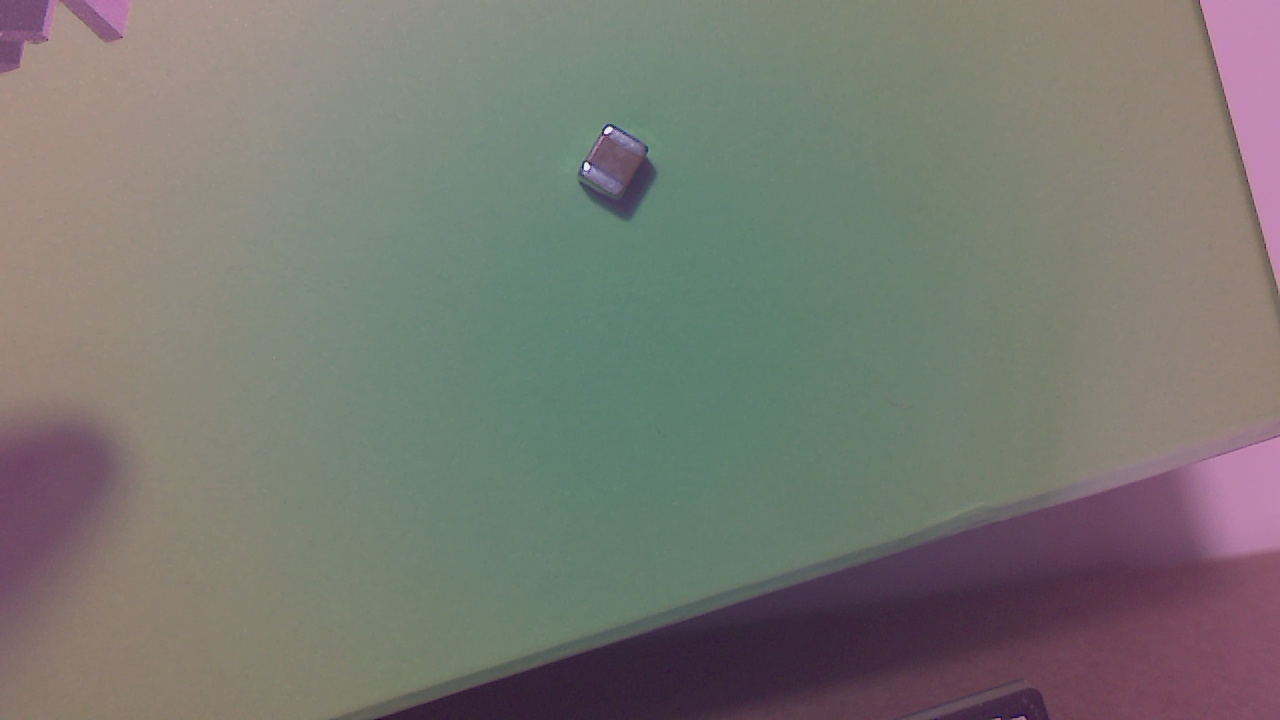Condensator: (583, 129, 660, 212)
